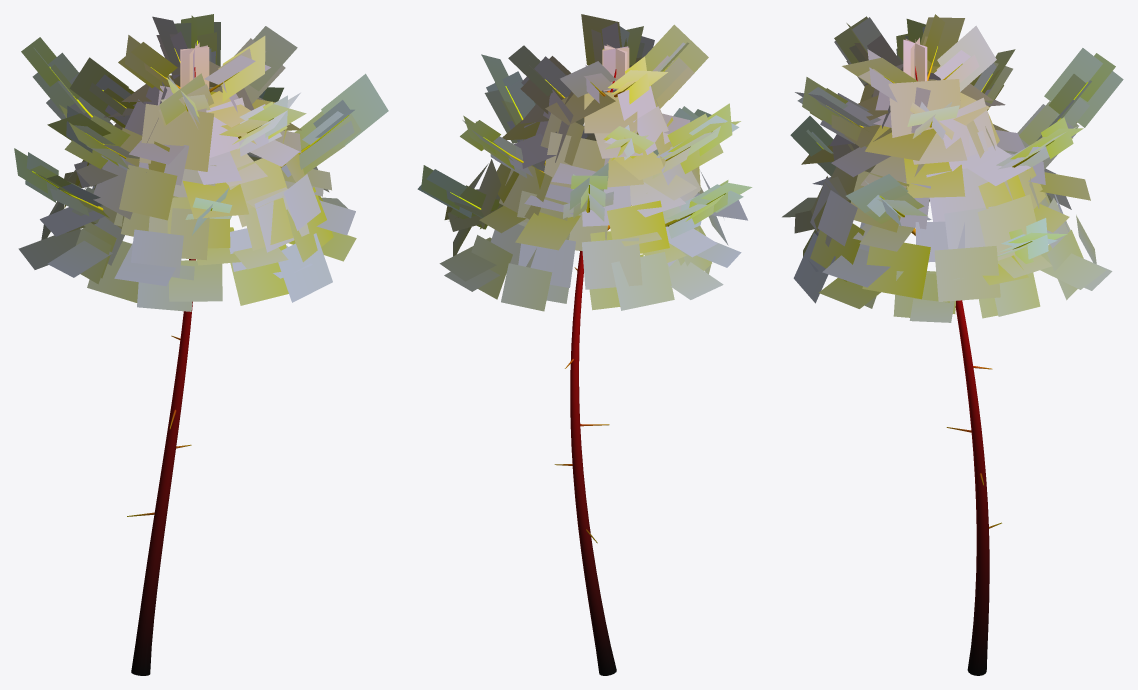
Rendered from akamatsu_2.glb.
3 renders of one model, left to right at view 1: azimuth 30°, elevation 25°; view 2: azimuth 150°, elevation 25°; view 3: azimuth 270°, elevation 25°, orthographic. The views are drawn at different scales.
Parts seen in each view (by area): view 1: akamatsu_2_lod0; view 2: akamatsu_2_lod0; view 3: akamatsu_2_lod0.
Boxes of the visible parts, left/top/right/bottom form: akamatsu_2_lod0: left=14, top=14, right=388, bottom=675; akamatsu_2_lod0: left=417, top=14, right=752, bottom=675; akamatsu_2_lod0: left=782, top=14, right=1123, bottom=675.
Size of what is drawn, in the model's own units: 9.35 by 18.15 by 8.64.
